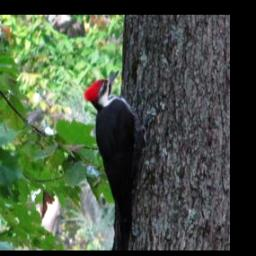Woodpecker: (81, 69, 155, 250)
